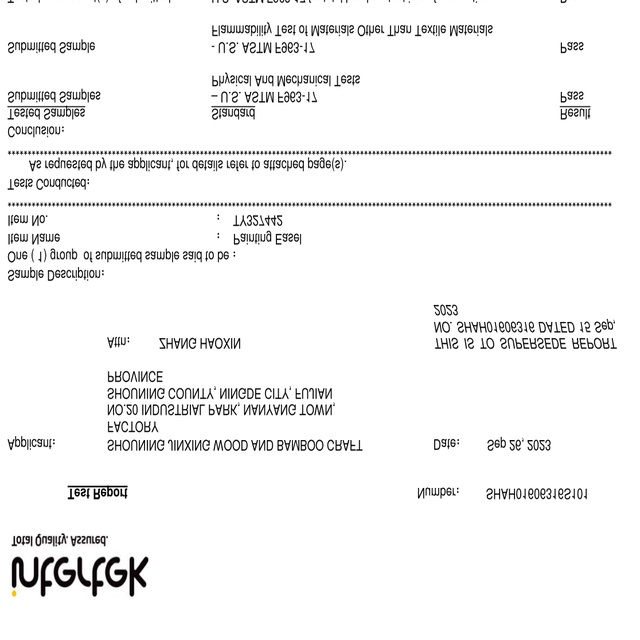intertek: (7, 549, 155, 602)
